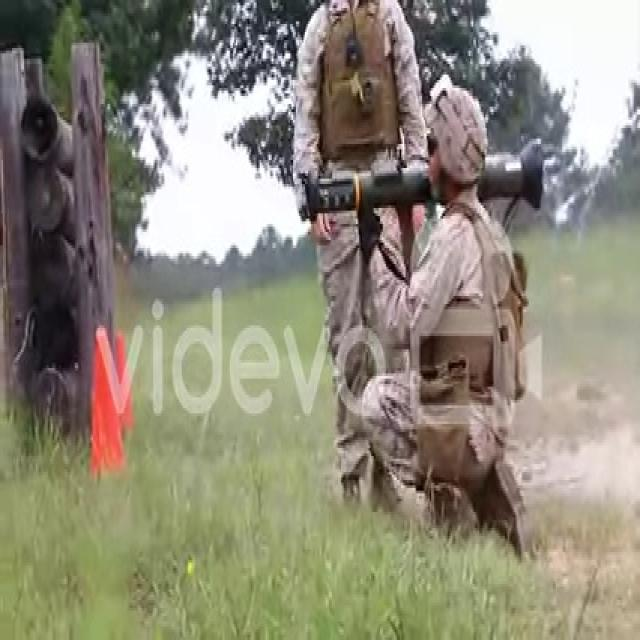bazooka: (292, 137, 551, 220)
